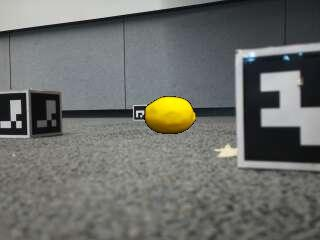lemon: (145, 98, 196, 134)
